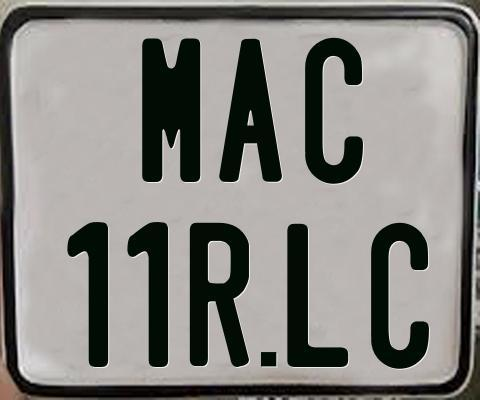1: (64, 222, 111, 367), (124, 221, 167, 372)
A: (219, 39, 285, 185)
C: (369, 223, 433, 370), (302, 35, 365, 184)
L: (285, 221, 351, 364)
M: (139, 35, 203, 180)
R: (189, 221, 253, 366)
